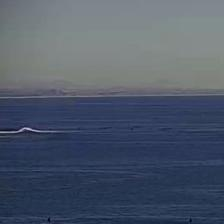surfer: (188, 217, 194, 223), (47, 216, 52, 222)
